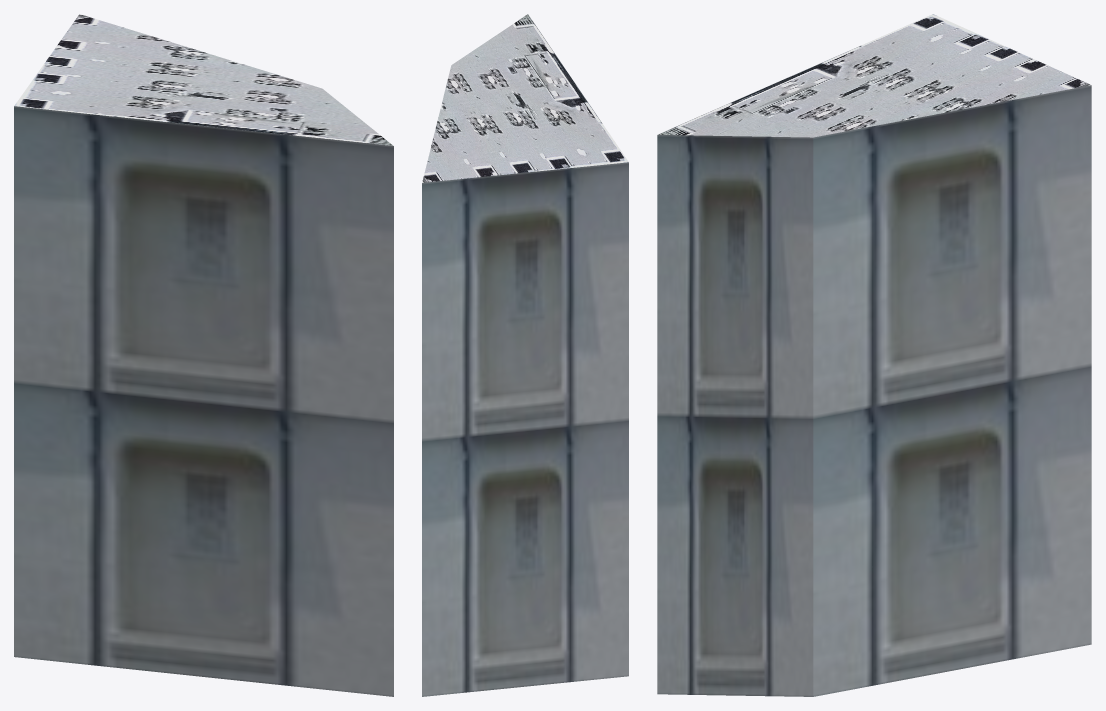
File: ResTex__1465.fbx
3 renders of one model, left to right at view 1: azimuth 30°, elevation 25°; view 2: azimuth 150°, elevation 25°; view 3: azimuth 270°, elevation 25°, orthographic. The views are drawn at different scales.
Parts seen in each view (by area): view 1: CityEngineMaterial_17_m, CityEngineMaterial_4_m; view 2: CityEngineMaterial_17_m, CityEngineMaterial_4_m; view 3: CityEngineMaterial_17_m, CityEngineMaterial_4_m.
Boxes of the visible parts, x1,y1,x2,y2 form: CityEngineMaterial_17_m: (14,106,393,696); CityEngineMaterial_4_m: (14,14,393,145); CityEngineMaterial_17_m: (422,162,628,696); CityEngineMaterial_4_m: (422,14,628,182); CityEngineMaterial_17_m: (657,85,1091,696); CityEngineMaterial_4_m: (657,14,1091,137).
Size of the model in its own units: 2.84 by 6 by 4.22.
Materials: 2 (2 with a texture image).
